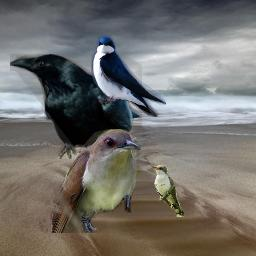Crow: (10, 54, 142, 159)
Cuckoo: (51, 129, 141, 233), (151, 164, 184, 217)
Swallow: (91, 35, 166, 117)
